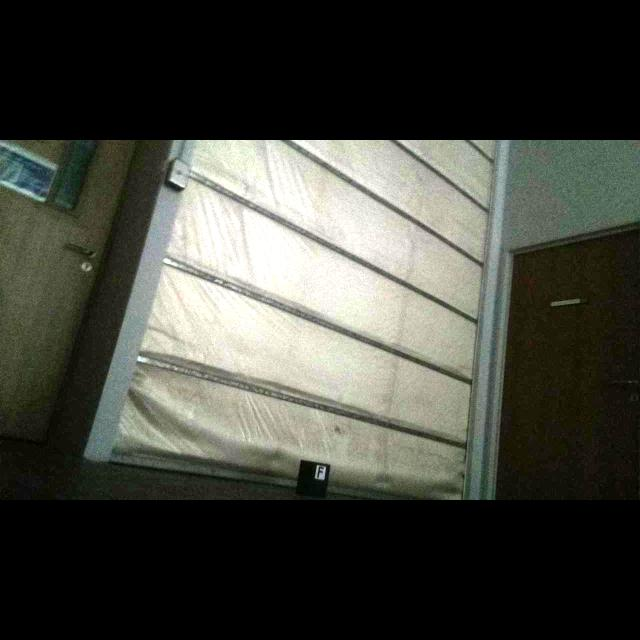F: (317, 466, 324, 478)
